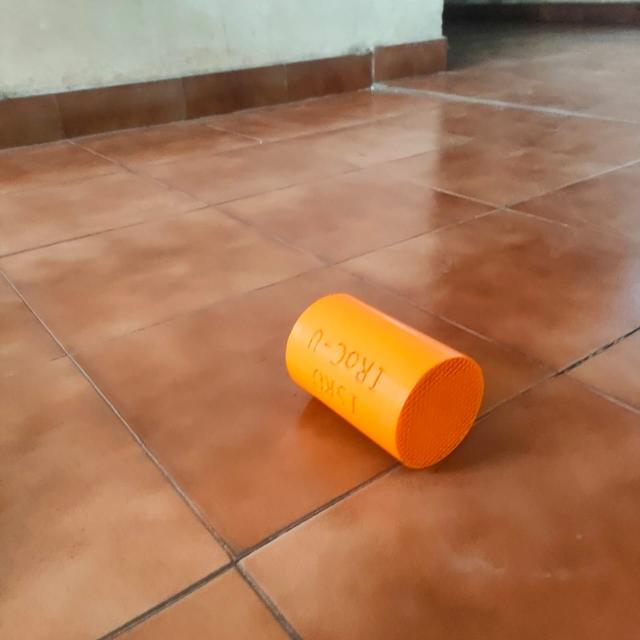Cylinder: (284, 291, 484, 470)
